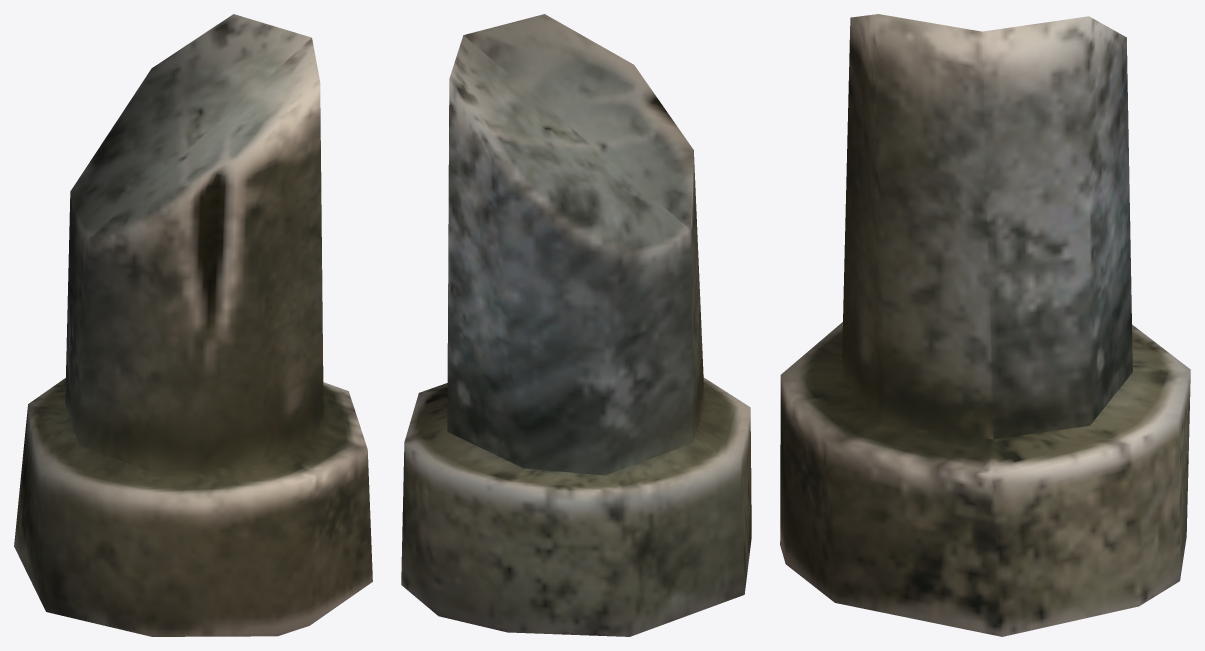
Rendered from zamok8.fbx.
3 renders of one model, left to right at view 1: azimuth 30°, elevation 25°; view 2: azimuth 150°, elevation 25°; view 3: azimuth 270°, elevation 25°, orthographic. The views are drawn at different scales.
Parts seen in each view (by area): view 1: Lp+.008; view 2: Lp+.008; view 3: Lp+.008.
Boxes of the visible parts, box(x1,y1,x2,y2) form: Lp+.008: box(14, 14, 372, 636); Lp+.008: box(401, 14, 751, 636); Lp+.008: box(780, 14, 1190, 636).
Size of the model in its own units: 278 by 420 by 268.
